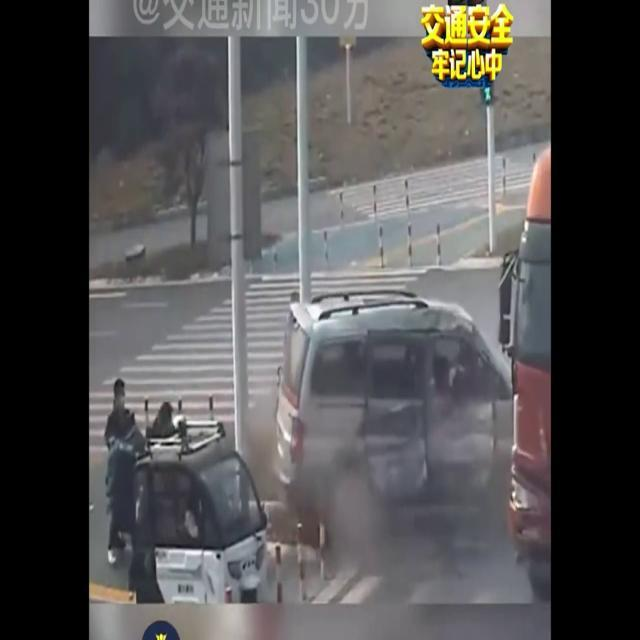single accident: (263, 267, 551, 607)
